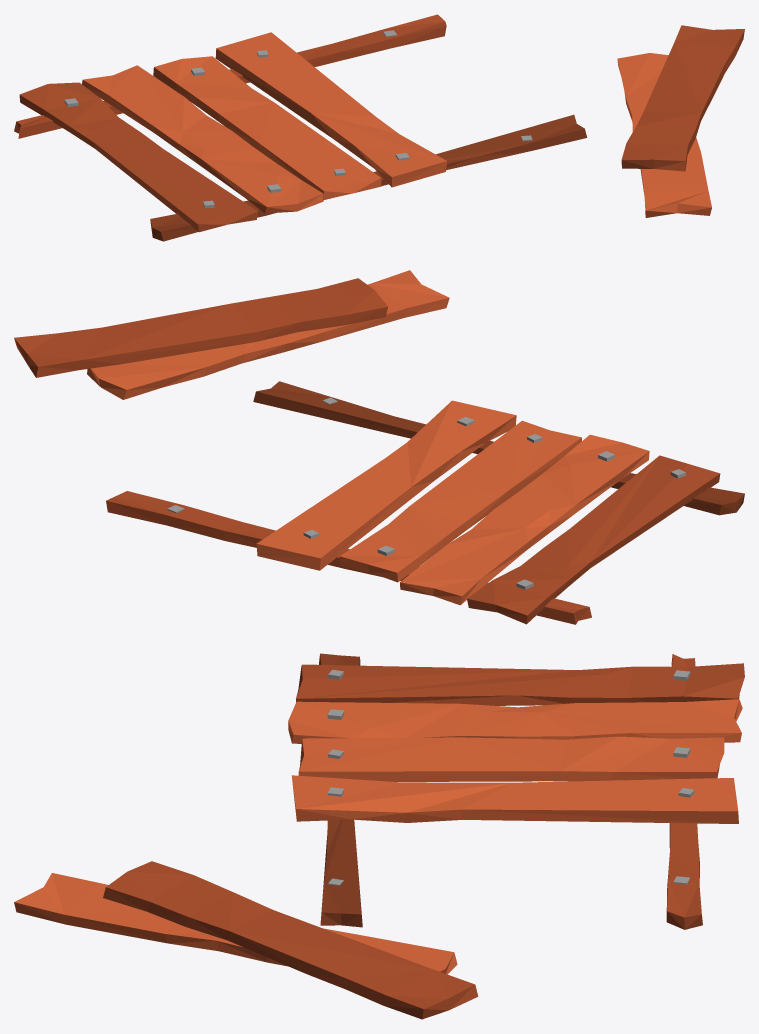
The model's file is Bridge_002.FBX.
The picture shows the model from 3 angles, top to bottom: view 1: azimuth 30°, elevation 25°; view 2: azimuth 150°, elevation 25°; view 3: azimuth 270°, elevation 25°; orthographic projection. The views are drawn at different scales.
Parts seen in each view (by area): view 1: Box017, Box011, Box010, Box018, Box012, Box014, Box021, Box022; view 2: Box012, Box011, Box017, Box010, Box018, Box014, Box022, Box021; view 3: Box011, Box012, Box010, Box017, Box018, Box014, Box021, Box022.
Part boxes in pixels (x1=…): Box017: x1=82, y1=65, x2=323, y2=213; Box011: x1=215, y1=32, x2=447, y2=187; Box010: x1=153, y1=56, x2=381, y2=199; Box018: x1=19, y1=82, x2=257, y2=232; Box012: x1=621, y1=25, x2=744, y2=171; Box014: x1=617, y1=53, x2=711, y2=217; Box021: x1=150, y1=114, x2=587, y2=241; Box022: x1=14, y1=14, x2=446, y2=138; Box012: x1=14, y1=278, x2=387, y2=377; Box011: x1=256, y1=400, x2=516, y2=570; Box017: x1=400, y1=434, x2=649, y2=605; Box010: x1=339, y1=420, x2=581, y2=582; Box018: x1=467, y1=455, x2=720, y2=624; Box014: x1=87, y1=270, x2=449, y2=399; Box022: x1=106, y1=491, x2=591, y2=624; Box021: x1=253, y1=381, x2=744, y2=515; Box011: x1=291, y1=775, x2=738, y2=823; Box012: x1=103, y1=861, x2=478, y2=1019; Box010: x1=298, y1=736, x2=724, y2=781; Box017: x1=288, y1=699, x2=742, y2=743; Box018: x1=296, y1=663, x2=744, y2=705; Box014: x1=14, y1=873, x2=457, y2=974; Box021: x1=319, y1=653, x2=362, y2=927; Box022: x1=666, y1=654, x2=702, y2=929.
Size of the model in its own units: 41.17 by 2.45 by 33.34.
